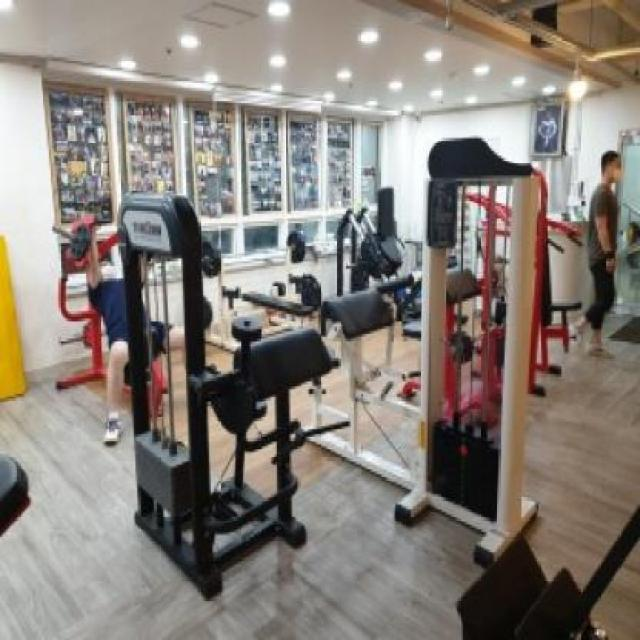arm curl machine: (132, 328, 351, 600)
